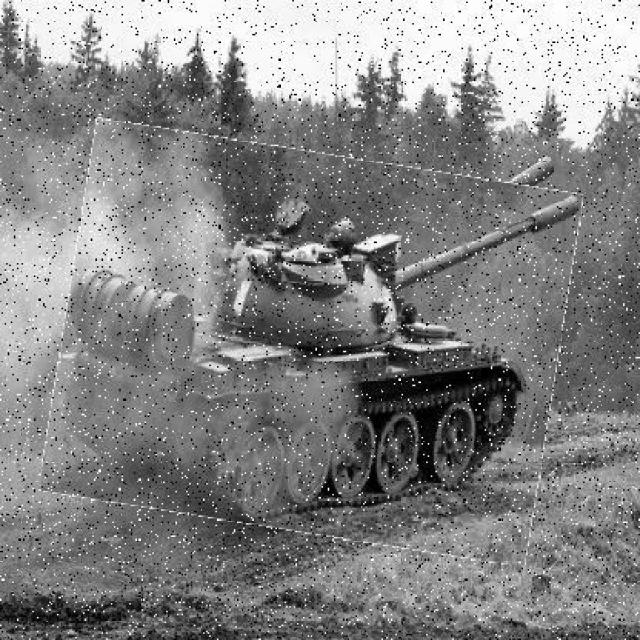Tank: (54, 137, 571, 551)
